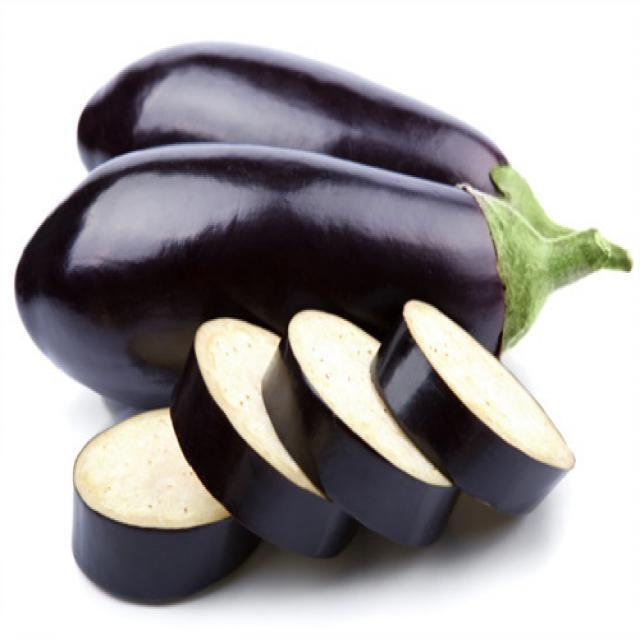eggplant: (14, 38, 625, 399), (18, 285, 640, 614), (378, 285, 614, 536), (166, 304, 374, 576), (35, 411, 288, 618), (272, 300, 460, 555)
